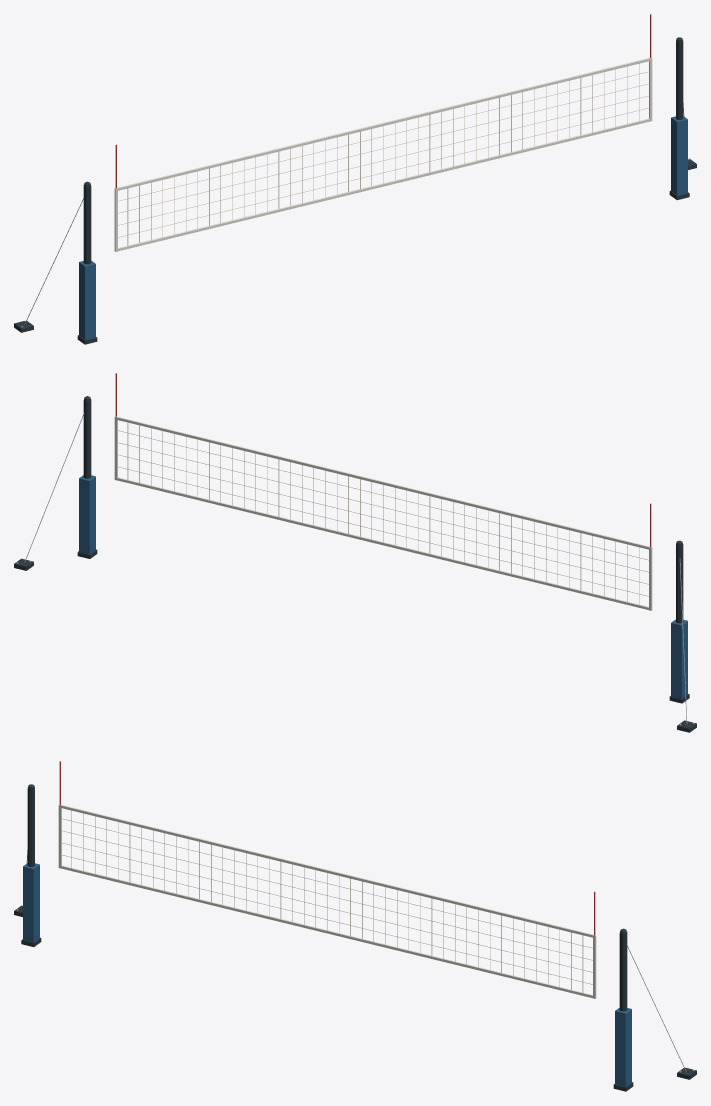
Rendered from b09_volleyball_net.glb.
3 renders of one model, top to bottom at view 1: azimuth 30°, elevation 25°; view 2: azimuth 150°, elevation 25°; view 3: azimuth 330°, elevation 25°, orthographic.
Parts seen in each view (by area): view 1: b09_volleyball_net; view 2: b09_volleyball_net; view 3: b09_volleyball_net.
Part boxes in pixels (<box>): b09_volleyball_net: <box>14,14,696,344</box>; b09_volleyball_net: <box>14,373,696,732</box>; b09_volleyball_net: <box>14,761,696,1091</box>.
Bounding box in the file's own units: 11.69 × 3.12 × 1.06.
